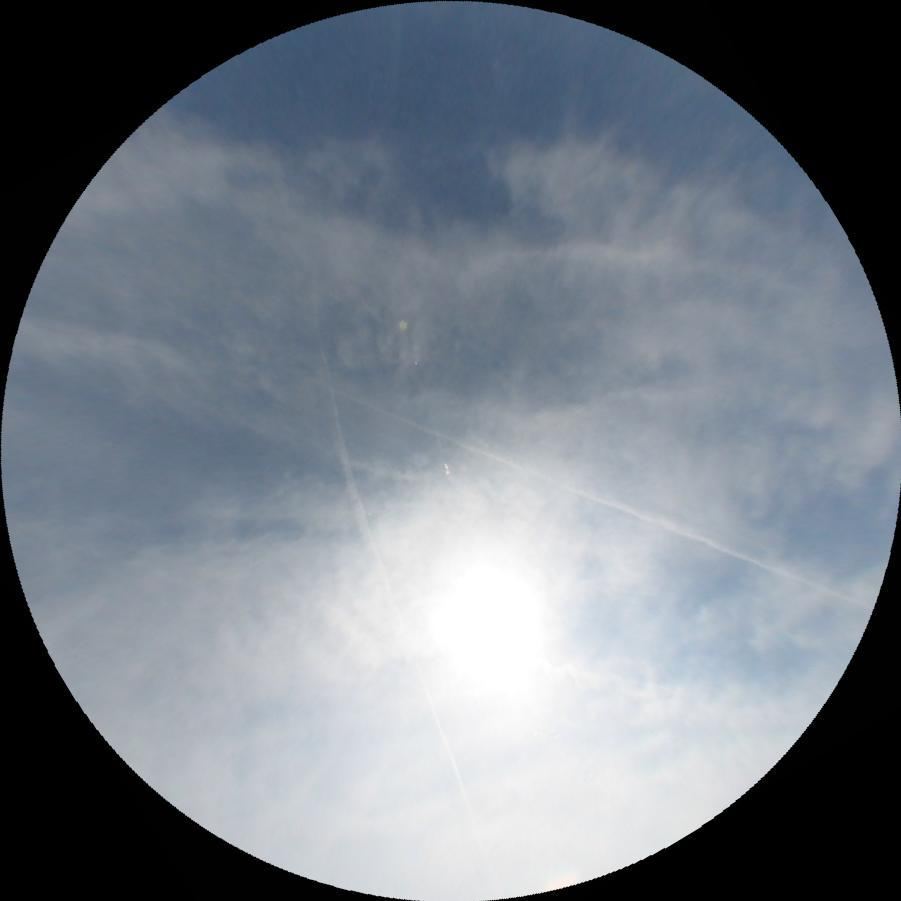contrail old: (330, 383, 874, 613), (299, 324, 474, 826)
sun: (413, 549, 569, 704)
